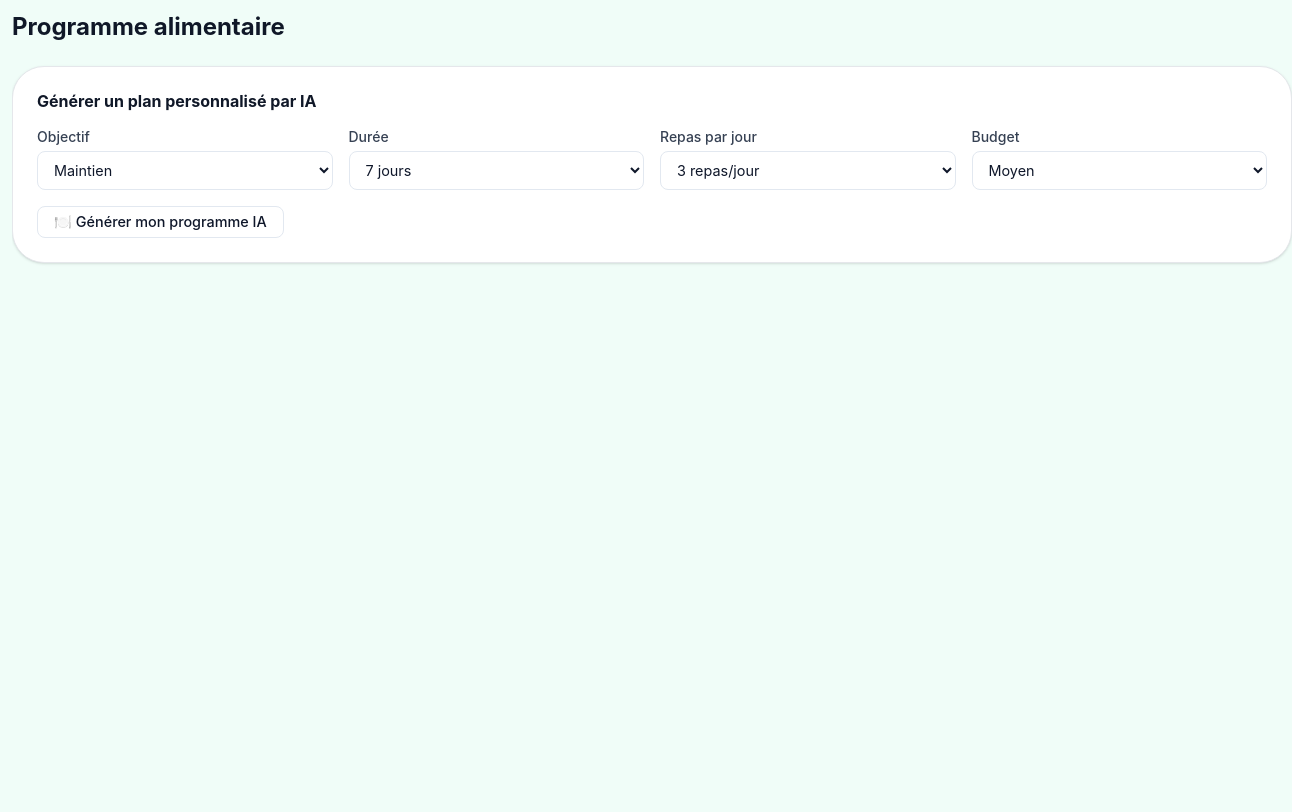
ProgramPage › shows day tabs after plan is generated
Step 1. Click the button "🍽️ Générer mon programme IA" → (160, 222), box x1=37 y1=206 x2=284 y2=238
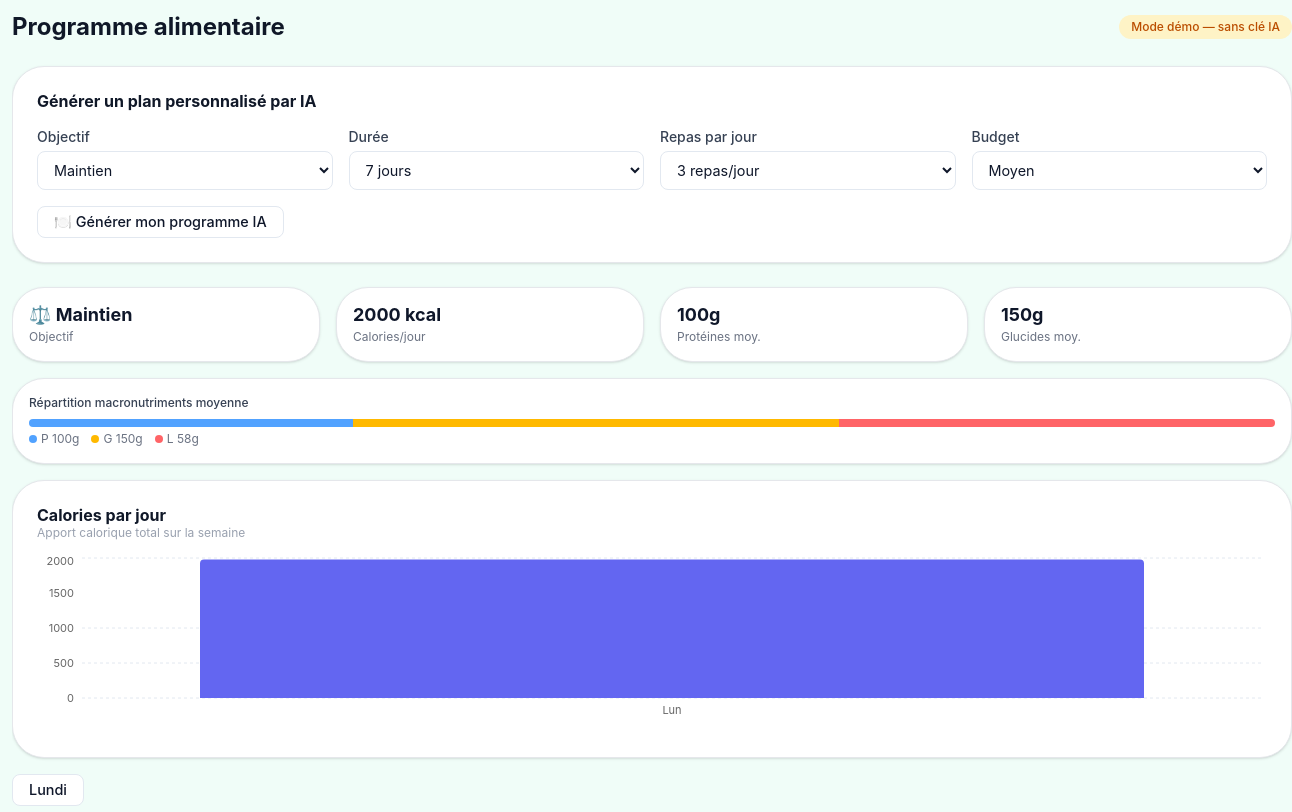
Expected: the tab "Lundi" is shown, x1=12 y1=774 x2=84 y2=806
